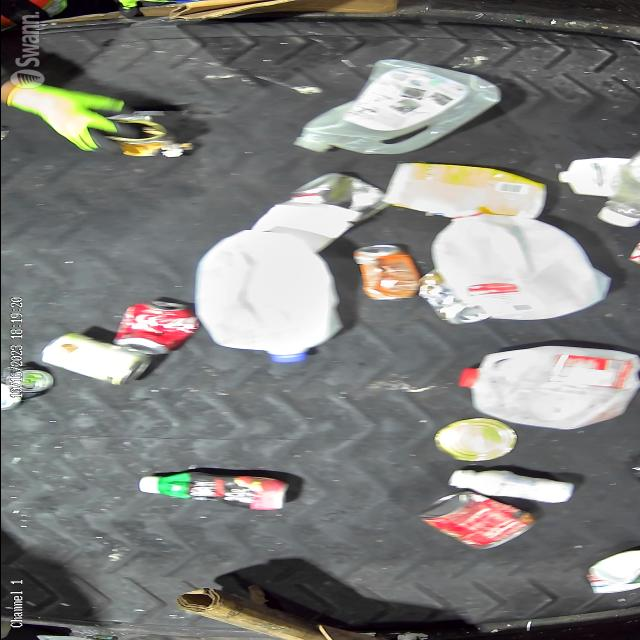can: (412, 491, 536, 552), (40, 330, 152, 386), (110, 298, 198, 356), (290, 172, 390, 222), (351, 244, 418, 302), (107, 114, 193, 158), (419, 270, 489, 324), (431, 418, 515, 462), (0, 364, 52, 410)
milk_jug: (428, 207, 614, 321), (291, 58, 502, 156), (192, 230, 344, 364), (455, 342, 640, 432)
